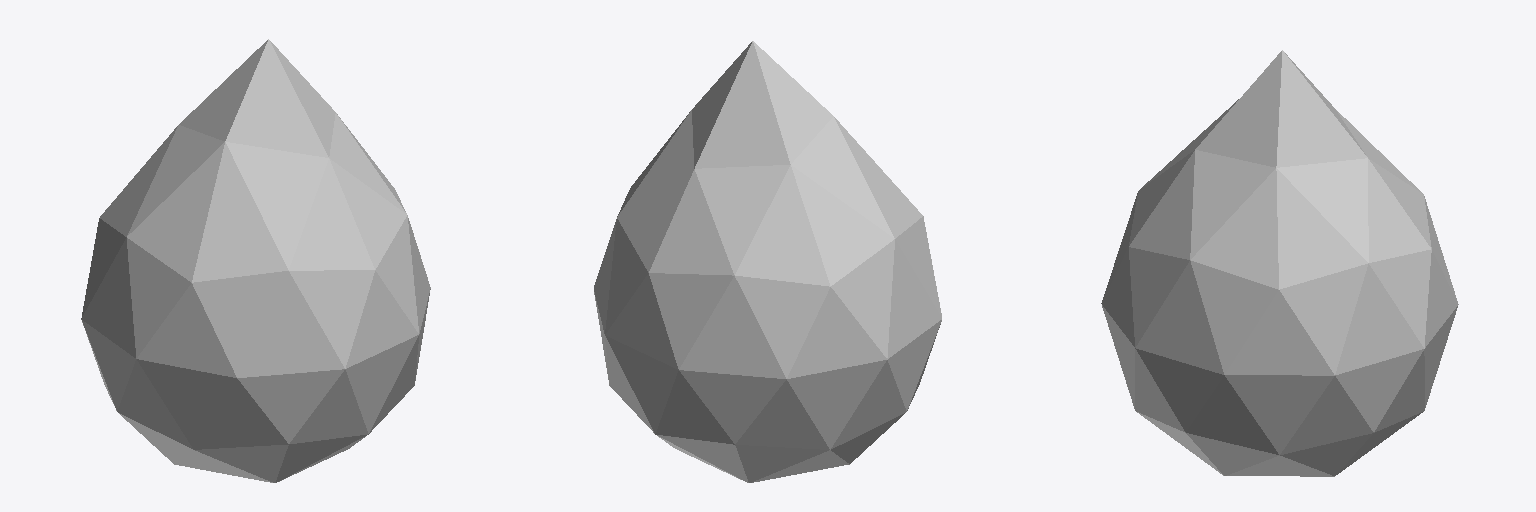
Rendered from drop.obj.
The picture shows the model from 3 angles: view 1: azimuth 30°, elevation 25°; view 2: azimuth 150°, elevation 25°; view 3: azimuth 270°, elevation 25°; orthographic projection.
Parts seen in each view (by area): view 1: Icosphere; view 2: Icosphere; view 3: Icosphere.
Boxes of the visible parts, x1,y1,x2,y2 form: Icosphere: [81, 39, 430, 482]; Icosphere: [594, 41, 941, 482]; Icosphere: [1101, 50, 1458, 476].
Bounding box in the file's own units: 1.9 × 2.63 × 2.